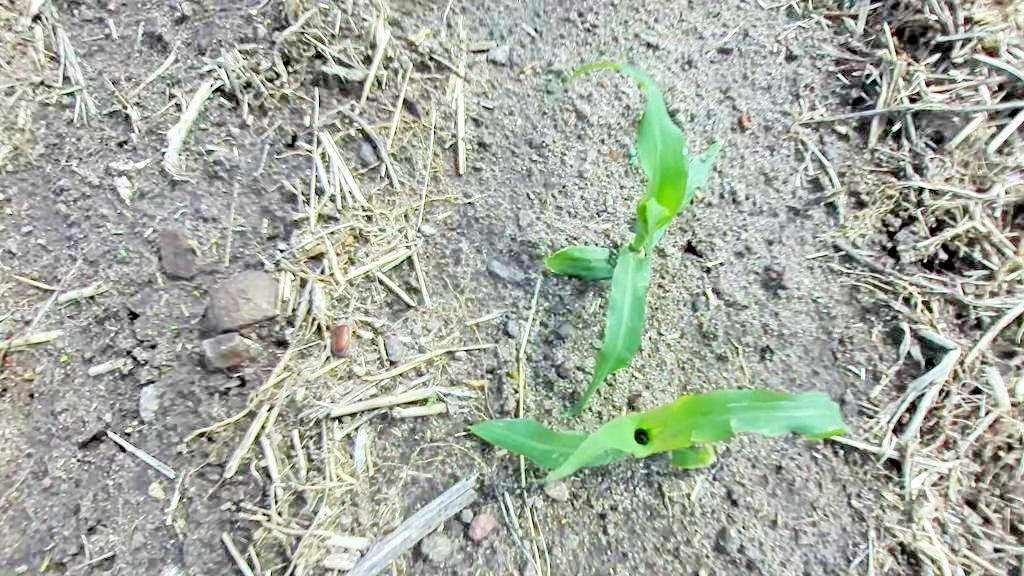BroWeed: (625, 142, 641, 169), (426, 396, 435, 408), (119, 249, 128, 257)
Maize: (444, 42, 738, 437), (466, 379, 854, 488)
